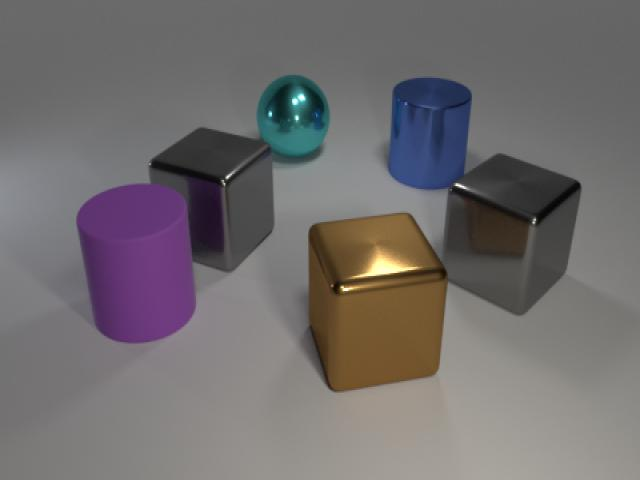cylinder: (69, 174, 205, 348), (383, 71, 475, 194)
round ball: (255, 69, 330, 165)
